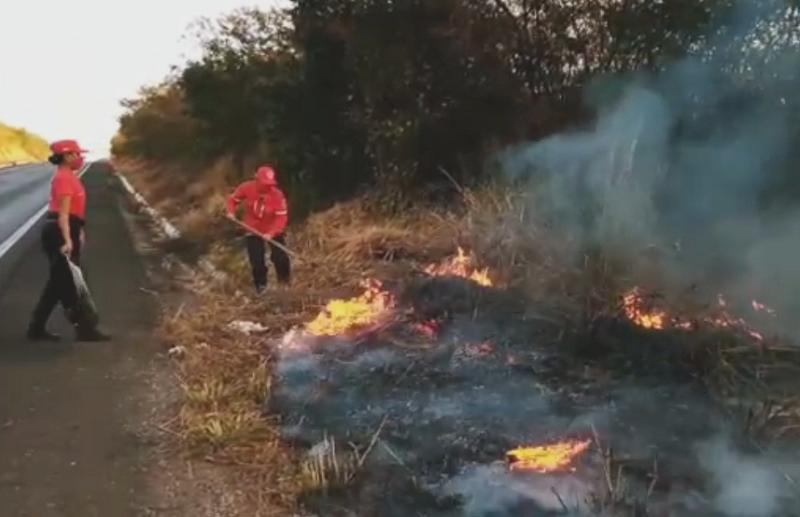Fire: (310, 282, 388, 337), (510, 438, 596, 472), (445, 252, 492, 290), (620, 295, 667, 330)
